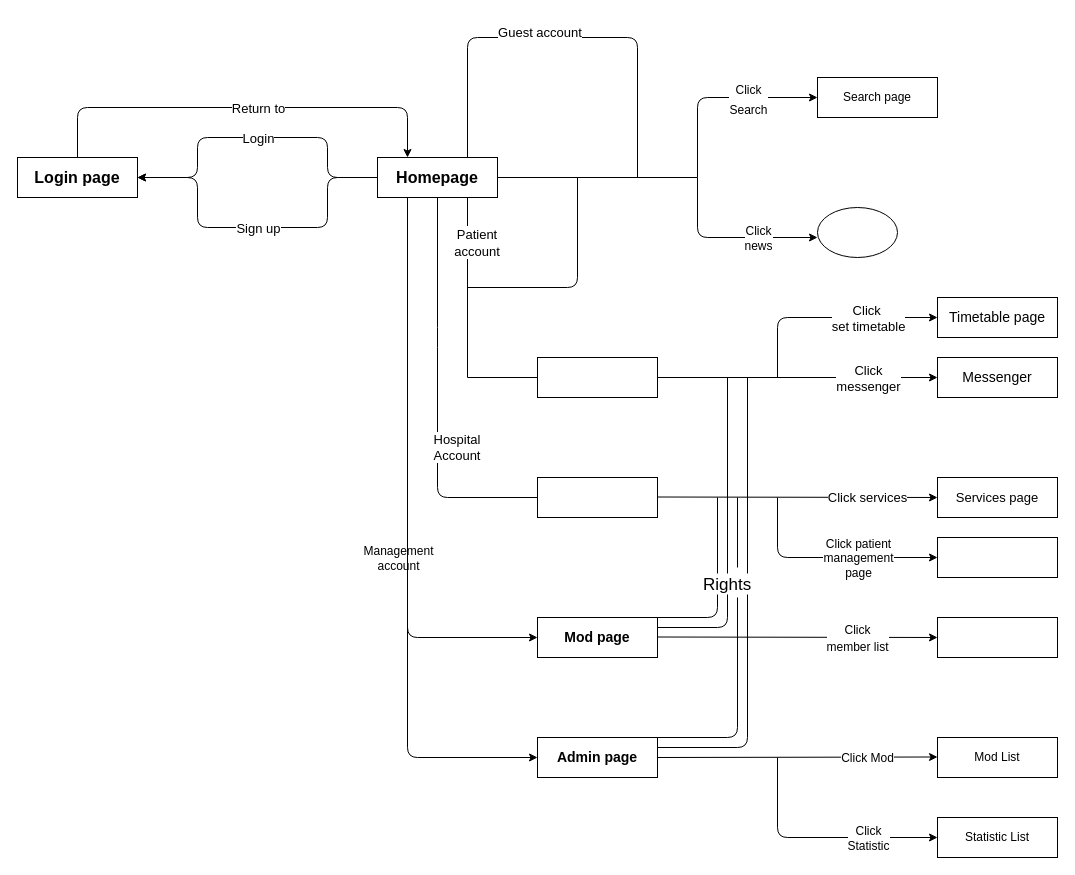
Some shapes in this 1075 by 875 pixel diagram are drawn without their labels. Each missing label, with the centre of its shape:
"Hospital page" goes at [597,497].
"Member list" goes at [997,637].
"News" goes at [857,232].
"Patient management page" goes at [997,557].
"Patient page" goes at [597,377].
